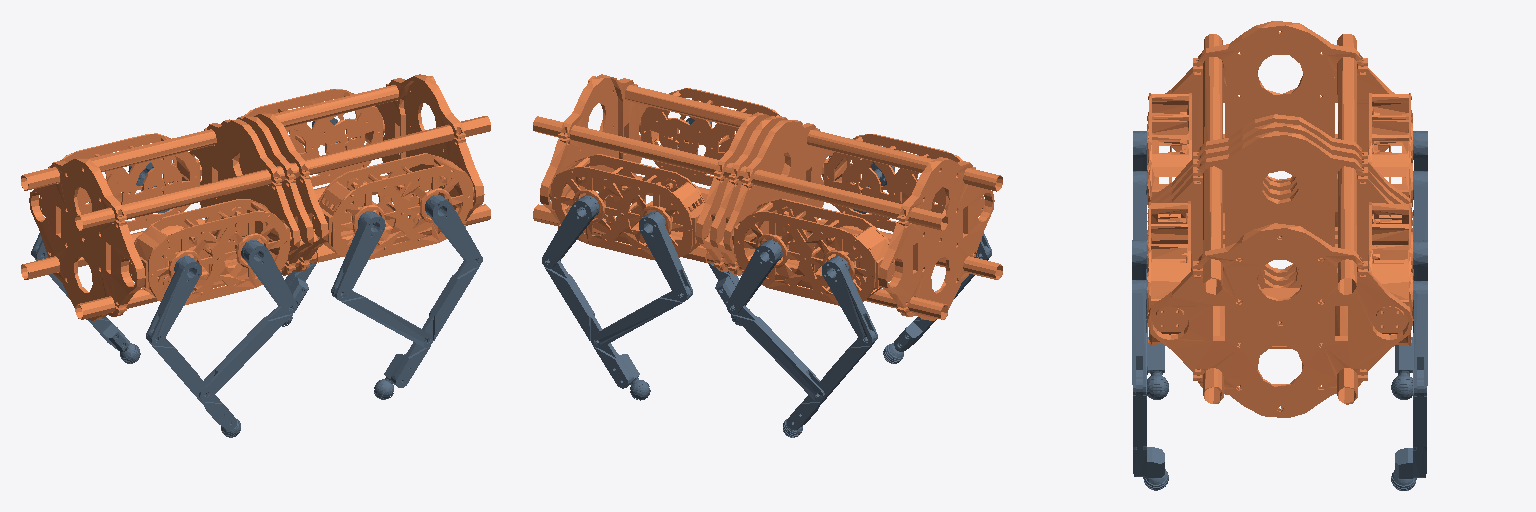
URDF robot description (quadson):
<robot name="quadson" version="1.0">
  <joint name="bl_joint0" type="revolute">
    <limit lower="-3.14000" upper="3.14000" effort="0.00000" velocity="0.00000"/>
    <origin rpy="0.00000 1.57080 0.00000" xyz="-0.20768 0.09541 0.00215"/>
    <parent link="base_link"/>
    <child link="bl_link0"/>
    <axis xyz="0.00000 0.00000 1.00000"/>
  </joint>
  <joint name="bl_joint1" type="revolute">
    <limit lower="-3.14000" upper="3.14000" effort="0.00000" velocity="0.00000"/>
    <origin rpy="-1.57080 -1.57080 0.00000" xyz="0.00040 0.01862 0.05458"/>
    <parent link="bl_link0"/>
    <child link="bl_link1"/>
    <axis xyz="0.00000 0.00000 1.00000"/>
  </joint>
  <joint name="bl_joint2" type="revolute">
    <limit lower="-3.14000" upper="3.14000" effort="0.00000" velocity="0.00000"/>
    <origin rpy="-0.00000 -0.00000 -0.00000" xyz="-0.04179 0.06838 0.00778"/>
    <parent link="bl_link1"/>
    <child link="bl_link2"/>
    <axis xyz="0.00000 0.00000 1.00000"/>
  </joint>
  <joint name="bl_joint3" type="revolute">
    <limit lower="-3.14000" upper="3.14000" effort="0.00000" velocity="0.00000"/>
    <origin rpy="-0.00000 0.00000 -0.00000" xyz="0.05995 0.08004 -0.00055"/>
    <parent link="bl_link2"/>
    <child link="bl_link3"/>
    <axis xyz="0.00000 0.00000 1.00000"/>
  </joint>
  <joint name="bl_joint4" type="revolute">
    <limit lower="-3.14000" upper="3.14000" effort="0.00000" velocity="0.00000"/>
    <origin rpy="-0.00000 0.00000 0.00000" xyz="0.10334 -0.07887 0.00054"/>
    <parent link="bl_link3"/>
    <child link="bl_link4"/>
    <axis xyz="0.00000 0.00000 1.00000"/>
  </joint>
  <joint name="br_joint0" type="revolute">
    <limit lower="-3.14000" upper="3.14000" effort="0.00000" velocity="0.00000"/>
    <origin rpy="0.00000 1.57080 0.00000" xyz="-0.20768 -0.09459 0.00215"/>
    <parent link="base_link"/>
    <child link="br_link0"/>
    <axis xyz="0.00000 0.00000 1.00000"/>
  </joint>
  <joint name="br_joint1" type="revolute">
    <limit lower="-3.14000" upper="3.14000" effort="0.00000" velocity="0.00000"/>
    <origin rpy="1.57080 -1.57080 -0.00000" xyz="0.00040 -0.01862 0.05458"/>
    <parent link="br_link0"/>
    <child link="br_link1"/>
    <axis xyz="0.00000 0.00000 1.00000"/>
  </joint>
  <joint name="br_joint2" type="revolute">
    <limit lower="-3.14000" upper="3.14000" effort="0.00000" velocity="0.00000"/>
    <origin rpy="0.00000 0.00000 -0.00000" xyz="-0.04173 -0.06842 0.00768"/>
    <parent link="br_link1"/>
    <child link="br_link2"/>
    <axis xyz="0.00000 0.00000 1.00000"/>
  </joint>
  <joint name="br_joint3" type="revolute">
    <limit lower="-3.14000" upper="3.14000" effort="0.00000" velocity="0.00000"/>
    <origin rpy="0.00000 0.00000 -0.00000" xyz="0.05988 -0.08000 -0.00045"/>
    <parent link="br_link2"/>
    <child link="br_link3"/>
    <axis xyz="0.00000 0.00000 1.00000"/>
  </joint>
  <joint name="br_joint4" type="revolute">
    <limit lower="-3.14000" upper="3.14000" effort="0.00000" velocity="0.00000"/>
    <origin rpy="0.00000 0.00000 -0.00000" xyz="0.10341 0.07891 0.00044"/>
    <parent link="br_link3"/>
    <child link="br_link4"/>
    <axis xyz="0.00000 0.00000 1.00000"/>
  </joint>
  <joint name="fl_joint0" type="revolute">
    <limit lower="-3.14000" upper="3.14000" effort="0.00000" velocity="0.00000"/>
    <origin rpy="0.00000 -1.57080 0.00000" xyz="0.20740 0.09541 0.00215"/>
    <parent link="base_link"/>
    <child link="fl_link0"/>
    <axis xyz="0.00000 0.00000 1.00000"/>
  </joint>
  <joint name="fl_joint1" type="revolute">
    <limit lower="-3.14000" upper="3.14000" effort="0.00000" velocity="0.00000"/>
    <origin rpy="-1.57080 1.57080 -0.00000" xyz="-0.00040 0.01862 0.05430"/>
    <parent link="fl_link0"/>
    <child link="fl_link1"/>
    <axis xyz="0.00000 0.00000 1.00000"/>
  </joint>
  <joint name="fl_joint2" type="revolute">
    <limit lower="-3.14000" upper="3.14000" effort="0.00000" velocity="0.00000"/>
    <origin rpy="-0.00000 -0.00000 -0.00000" xyz="0.04173 0.06842 0.00768"/>
    <parent link="fl_link1"/>
    <child link="fl_link2"/>
    <axis xyz="0.00000 0.00000 1.00000"/>
  </joint>
  <joint name="fl_joint3" type="revolute">
    <limit lower="-3.14000" upper="3.14000" effort="0.00000" velocity="0.00000"/>
    <origin rpy="-0.00000 0.00000 -0.00000" xyz="-0.05988 0.08000 -0.00045"/>
    <parent link="fl_link2"/>
    <child link="fl_link3"/>
    <axis xyz="0.00000 0.00000 1.00000"/>
  </joint>
  <joint name="fl_joint4" type="revolute">
    <limit lower="-3.14000" upper="3.14000" effort="0.00000" velocity="0.00000"/>
    <origin rpy="-0.00000 -0.00000 0.00000" xyz="-0.10334 -0.07887 0.00054"/>
    <parent link="fl_link3"/>
    <child link="fl_link4"/>
    <axis xyz="0.00000 0.00000 1.00000"/>
  </joint>
  <joint name="fr_joint0" type="revolute">
    <limit lower="-3.14000" upper="3.14000" effort="0.00000" velocity="0.00000"/>
    <origin rpy="0.00000 -1.57080 0.00000" xyz="0.20740 -0.09459 0.00215"/>
    <parent link="base_link"/>
    <child link="fr_link0"/>
    <axis xyz="0.00000 0.00000 1.00000"/>
  </joint>
  <joint name="fr_joint1" type="revolute">
    <limit lower="-3.14000" upper="3.14000" effort="0.00000" velocity="0.00000"/>
    <origin rpy="1.57080 1.57080 0.00000" xyz="0.00039 -0.01915 0.05430"/>
    <parent link="fr_link0"/>
    <child link="fr_link1"/>
    <axis xyz="0.00000 0.00000 1.00000"/>
  </joint>
  <joint name="fr_joint2" type="revolute">
    <limit lower="-3.14000" upper="3.14000" effort="0.00000" velocity="0.00000"/>
    <origin rpy="0.00000 0.00000 0.00000" xyz="0.04179 -0.06838 0.00778"/>
    <parent link="fr_link1"/>
    <child link="fr_link2"/>
    <axis xyz="0.00000 0.00000 1.00000"/>
  </joint>
  <joint name="fr_joint3" type="revolute">
    <limit lower="-3.14000" upper="3.14000" effort="0.00000" velocity="0.00000"/>
    <origin rpy="0.00000 0.00000 -0.00000" xyz="-0.05995 -0.08004 -0.00055"/>
    <parent link="fr_link2"/>
    <child link="fr_link3"/>
    <axis xyz="0.00000 0.00000 1.00000"/>
  </joint>
  <joint name="fr_joint4" type="revolute">
    <limit lower="-3.14000" upper="3.14000" effort="0.00000" velocity="0.00000"/>
    <origin rpy="0.00000 0.00000 -0.00000" xyz="-0.10341 0.07891 0.00044"/>
    <parent link="fr_link3"/>
    <child link="fr_link4"/>
    <axis xyz="0.00000 0.00000 1.00000"/>
  </joint>
  <link name="base_link">
    <inertial>
      <inertia ixx="0.00472" ixy="0.00000" ixz="0.00000" iyy="0.02855" iyz="-0.00000" izz="0.02916"/>
      <origin rpy="0.00000 0.00000 0.00000" xyz="-0.00001 0.00040 -0.00279"/>
      <mass value="1.50000"/>
    </inertial>
    <visual name="base_link.visual">
      <origin rpy="0.00000 0.00000 0.00000" xyz="0.00000 0.00000 0.00000"/>
      <material name="Primary"/>
      <geometry>
        <mesh filename="../meshes/dae/base_link.dae" scale="1.00000 1.00000 1.00000"/>
      </geometry>
    </visual>
  </link>
  <link name="bl_link0">
    <inertial>
      <inertia ixx="0.00020" ixy="-0.00000" ixz="0.00001" iyy="0.00118" iyz="-0.00000" izz="0.00107"/>
      <origin rpy="0.00000 0.00000 0.00000" xyz="-0.00032 -0.00122 0.09509"/>
      <mass value="0.40000"/>
    </inertial>
    <visual name="bl_link0.visual">
      <origin rpy="-0.00000 -1.57080 0.00000" xyz="-0.00000 -0.00000 -0.00000"/>
      <material name="Primary"/>
      <geometry>
        <mesh filename="../meshes/dae/bl_link0.dae" scale="1.00000 1.00000 1.00000"/>
      </geometry>
    </visual>
  </link>
  <link name="bl_link1">
    <inertial>
      <inertia ixx="0.00012" ixy="0.00000" ixz="-0.00007" iyy="0.00016" iyz="0.00001" izz="0.00005"/>
      <origin rpy="0.00000 0.00000 0.00000" xyz="-0.01519 0.02472 0.00644"/>
      <mass value="0.20000"/>
    </inertial>
    <visual name="bl_link1.visual">
      <origin rpy="1.57080 0.00000 -0.00000" xyz="0.00000 0.00000 -0.00000"/>
      <material name="Grey"/>
      <geometry>
        <mesh filename="../meshes/dae/bl_link1.dae" scale="1.00000 1.00000 1.00000"/>
      </geometry>
    </visual>
  </link>
  <link name="bl_link2">
    <inertial>
      <inertia ixx="0.00062" ixy="0.00006" ixz="0.00045" iyy="0.00095" iyz="-0.00008" izz="0.00036"/>
      <origin rpy="0.00000 0.00000 0.00000" xyz="0.05980 0.08004 -0.00440"/>
      <mass value="0.20000"/>
    </inertial>
    <visual name="bl_link2.visual">
      <origin rpy="1.57080 0.00000 0.00000" xyz="-0.00000 0.00000 0.00000"/>
      <material name="Grey"/>
      <geometry>
        <mesh filename="../meshes/dae/bl_link2.dae" scale="1.00000 1.00000 1.00000"/>
      </geometry>
    </visual>
  </link>
  <link name="bl_link3">
    <inertial>
      <inertia ixx="0.00012" ixy="-0.00000" ixz="-0.00015" iyy="0.00031" iyz="-0.00000" izz="0.00020"/>
      <origin rpy="0.00000 0.00000 0.00000" xyz="0.05213 -0.03967 0.00027"/>
      <mass value="0.20000"/>
    </inertial>
    <visual name="bl_link3.visual">
      <origin rpy="1.57080 -0.00000 0.00000" xyz="0.00000 -0.00000 -0.00000"/>
      <material name="Grey"/>
      <geometry>
        <mesh filename="../meshes/dae/bl_link3.dae" scale="1.00000 1.00000 1.00000"/>
      </geometry>
    </visual>
  </link>
  <link name="bl_link4">
    <inertial>
      <inertia ixx="0.00012" ixy="-0.00000" ixz="0.00006" iyy="0.00016" iyz="0.00001" izz="0.00005"/>
      <origin rpy="0.00000 0.00000 0.00000" xyz="-0.02534 -0.04440 -0.00134"/>
      <mass value="0.20000"/>
    </inertial>
    <visual name="bl_link4.visual">
      <origin rpy="1.57080 -0.00000 0.00000" xyz="-0.03950 -0.06955 -0.00778"/>
      <material name="Grey"/>
      <geometry>
        <mesh filename="../meshes/dae/bl_link4.dae" scale="1.00000 1.00000 1.00000"/>
      </geometry>
    </visual>
  </link>
  <link name="br_link0">
    <inertial>
      <inertia ixx="0.00020" ixy="0.00000" ixz="0.00001" iyy="0.00118" iyz="0.00000" izz="0.00107"/>
      <origin rpy="0.00000 0.00000 0.00000" xyz="-0.00032 0.00122 0.09509"/>
      <mass value="0.40000"/>
    </inertial>
    <visual name="br_link0.visual">
      <origin rpy="-0.00000 -1.57080 0.00000" xyz="-0.00000 0.00000 -0.00000"/>
      <material name="Primary"/>
      <geometry>
        <mesh filename="../meshes/dae/br_link0.dae" scale="1.00000 1.00000 1.00000"/>
      </geometry>
    </visual>
  </link>
  <link name="br_link1">
    <inertial>
      <inertia ixx="0.00012" ixy="-0.00000" ixz="-0.00007" iyy="0.00016" iyz="-0.00001" izz="0.00005"/>
      <origin rpy="0.00000 0.00000 0.00000" xyz="-0.01519 -0.02472 0.00644"/>
      <mass value="0.20000"/>
    </inertial>
    <visual name="br_link1.visual">
      <origin rpy="-1.57080 0.00000 0.00000" xyz="0.00000 -0.00000 -0.00000"/>
      <material name="Grey"/>
      <geometry>
        <mesh filename="../meshes/dae/br_link1.dae" scale="1.00000 1.00000 1.00000"/>
      </geometry>
    </visual>
  </link>
  <link name="br_link2">
    <inertial>
      <inertia ixx="0.00062" ixy="-0.00006" ixz="0.00045" iyy="0.00095" iyz="0.00008" izz="0.00036"/>
      <origin rpy="0.00000 0.00000 0.00000" xyz="0.05973 -0.08000 -0.00430"/>
      <mass value="0.20000"/>
    </inertial>
    <visual name="br_link2.visual">
      <origin rpy="-1.57080 -0.00000 0.00000" xyz="0.00000 0.00000 -0.00000"/>
      <material name="Grey"/>
      <geometry>
        <mesh filename="../meshes/dae/br_link2.dae" scale="1.00000 1.00000 1.00000"/>
      </geometry>
    </visual>
  </link>
  <link name="br_link3">
    <inertial>
      <inertia ixx="0.00012" ixy="0.00000" ixz="-0.00015" iyy="0.00031" iyz="0.00000" izz="0.00020"/>
      <origin rpy="0.00000 0.00000 0.00000" xyz="0.05213 0.03967 0.00027"/>
      <mass value="0.20000"/>
    </inertial>
    <visual name="br_link3.visual">
      <origin rpy="-1.57080 -0.00000 0.00000" xyz="0.00000 0.00000 -0.00000"/>
      <material name="Grey"/>
      <geometry>
        <mesh filename="../meshes/dae/br_link3.dae" scale="1.00000 1.00000 1.00000"/>
      </geometry>
    </visual>
  </link>
  <link name="br_link4">
    <inertial>
      <inertia ixx="0.00012" ixy="0.00000" ixz="0.00006" iyy="0.00016" iyz="-0.00001" izz="0.00005"/>
      <origin rpy="0.00000 0.00000 0.00000" xyz="-0.02541 0.04436 -0.00125"/>
      <mass value="0.20000"/>
    </inertial>
    <visual name="br_link4.visual">
      <origin rpy="-1.57080 -0.00000 0.00000" xyz="-0.03957 0.06951 -0.00768"/>
      <material name="Grey"/>
      <geometry>
        <mesh filename="../meshes/dae/br_link4.dae" scale="1.00000 1.00000 1.00000"/>
      </geometry>
    </visual>
  </link>
  <link name="fl_link0">
    <inertial>
      <inertia ixx="0.00020" ixy="0.00000" ixz="-0.00001" iyy="0.00118" iyz="-0.00000" izz="0.00107"/>
      <origin rpy="0.00000 0.00000 0.00000" xyz="0.00032 -0.00122 0.09481"/>
      <mass value="0.40000"/>
    </inertial>
    <visual name="fl_link0.visual">
      <origin rpy="0.00000 1.57080 0.00000" xyz="-0.00000 -0.00000 0.00000"/>
      <material name="Primary"/>
      <geometry>
        <mesh filename="../meshes/dae/fl_link0.dae" scale="1.00000 1.00000 1.00000"/>
      </geometry>
    </visual>
  </link>
  <link name="fl_link1">
    <inertial>
      <inertia ixx="0.00012" ixy="-0.00000" ixz="0.00007" iyy="0.00016" iyz="0.00001" izz="0.00005"/>
      <origin rpy="0.00000 0.00000 0.00000" xyz="0.01519 0.02472 0.00644"/>
      <mass value="0.20000"/>
    </inertial>
    <visual name="fl_link1.visual">
      <origin rpy="1.57080 -0.00000 0.00000" xyz="0.00000 0.00000 -0.00000"/>
      <material name="Grey"/>
      <geometry>
        <mesh filename="../meshes/dae/fl_link1.dae" scale="1.00000 1.00000 1.00000"/>
      </geometry>
    </visual>
  </link>
  <link name="fl_link2">
    <inertial>
      <inertia ixx="0.00062" ixy="-0.00006" ixz="-0.00045" iyy="0.00095" iyz="-0.00008" izz="0.00036"/>
      <origin rpy="0.00000 0.00000 0.00000" xyz="-0.05973 0.08000 -0.00430"/>
      <mass value="0.20000"/>
    </inertial>
    <visual name="fl_link2.visual">
      <origin rpy="1.57080 0.00000 0.00000" xyz="-0.00000 0.00000 0.00000"/>
      <material name="Grey"/>
      <geometry>
        <mesh filename="../meshes/dae/fl_link2.dae" scale="1.00000 1.00000 1.00000"/>
      </geometry>
    </visual>
  </link>
  <link name="fl_link3">
    <inertial>
      <inertia ixx="0.00012" ixy="0.00000" ixz="0.00015" iyy="0.00031" iyz="-0.00000" izz="0.00020"/>
      <origin rpy="0.00000 0.00000 0.00000" xyz="-0.05213 -0.03967 0.00027"/>
      <mass value="0.20000"/>
    </inertial>
    <visual name="fl_link3.visual">
      <origin rpy="1.57080 -0.00000 -0.00000" xyz="-0.00000 -0.00000 -0.00000"/>
      <material name="Grey"/>
      <geometry>
        <mesh filename="../meshes/dae/fl_link3.dae" scale="1.00000 1.00000 1.00000"/>
      </geometry>
    </visual>
  </link>
  <link name="fl_link4">
    <inertial>
      <inertia ixx="0.00012" ixy="0.00000" ixz="-0.00006" iyy="0.00016" iyz="0.00001" izz="0.00005"/>
      <origin rpy="0.00000 0.00000 0.00000" xyz="0.02534 -0.04440 -0.00134"/>
      <mass value="0.20000"/>
    </inertial>
    <visual name="fl_link4.visual">
      <origin rpy="1.57080 -0.00000 -0.00000" xyz="0.03950 -0.06955 -0.00778"/>
      <material name="Grey"/>
      <geometry>
        <mesh filename="../meshes/dae/fl_link4.dae" scale="1.00000 1.00000 1.00000"/>
      </geometry>
    </visual>
  </link>
  <link name="fr_link0">
    <inertial>
      <inertia ixx="0.00020" ixy="-0.00000" ixz="-0.00001" iyy="0.00118" iyz="0.00000" izz="0.00107"/>
      <origin rpy="0.00000 0.00000 0.00000" xyz="0.00111 0.00069 0.09481"/>
      <mass value="0.40000"/>
    </inertial>
    <visual name="fr_link0.visual">
      <origin rpy="-0.00000 1.57080 -0.00000" xyz="0.00000 0.00000 -0.00000"/>
      <material name="Primary"/>
      <geometry>
        <mesh filename="../meshes/dae/fr_link0.dae" scale="1.00000 1.00000 1.00000"/>
      </geometry>
    </visual>
  </link>
  <link name="fr_link1">
    <inertial>
      <inertia ixx="0.00012" ixy="0.00000" ixz="0.00007" iyy="0.00016" iyz="-0.00001" izz="0.00005"/>
      <origin rpy="0.00000 0.00000 0.00000" xyz="0.01519 -0.02472 0.00644"/>
      <mass value="0.20000"/>
    </inertial>
    <visual name="fr_link1.visual">
      <origin rpy="-1.57080 -0.00000 -0.00000" xyz="0.00000 0.00000 -0.00000"/>
      <material name="Grey"/>
      <geometry>
        <mesh filename="../meshes/dae/fr_link1.dae" scale="1.00000 1.00000 1.00000"/>
      </geometry>
    </visual>
  </link>
  <link name="fr_link2">
    <inertial>
      <inertia ixx="0.00062" ixy="0.00006" ixz="-0.00045" iyy="0.00095" iyz="0.00008" izz="0.00036"/>
      <origin rpy="0.00000 0.00000 0.00000" xyz="-0.05980 -0.08004 -0.00440"/>
      <mass value="0.20000"/>
    </inertial>
    <visual name="fr_link2.visual">
      <origin rpy="-1.57080 -0.00000 -0.00000" xyz="-0.00000 -0.00000 -0.00000"/>
      <material name="Grey"/>
      <geometry>
        <mesh filename="../meshes/dae/fr_link2.dae" scale="1.00000 1.00000 1.00000"/>
      </geometry>
    </visual>
  </link>
  <link name="fr_link3">
    <inertial>
      <inertia ixx="0.00012" ixy="-0.00000" ixz="0.00015" iyy="0.00031" iyz="0.00000" izz="0.00020"/>
      <origin rpy="0.00000 0.00000 0.00000" xyz="-0.05213 0.03967 0.00027"/>
      <mass value="0.20000"/>
    </inertial>
    <visual name="fr_link3.visual">
      <origin rpy="-1.57080 -0.00000 -0.00000" xyz="0.00000 -0.00000 0.00000"/>
      <material name="Grey"/>
      <geometry>
        <mesh filename="../meshes/dae/fr_link3.dae" scale="1.00000 1.00000 1.00000"/>
      </geometry>
    </visual>
  </link>
  <link name="fr_link4">
    <inertial>
      <inertia ixx="0.00012" ixy="-0.00000" ixz="-0.00006" iyy="0.00016" iyz="-0.00001" izz="0.00005"/>
      <origin rpy="0.00000 0.00000 0.00000" xyz="0.02541 0.04436 -0.00125"/>
      <mass value="0.20000"/>
    </inertial>
    <visual name="fr_link4.000">
      <origin rpy="-1.57080 -0.00000 -0.00000" xyz="0.03966 0.06964 -0.00768"/>
      <material name="Grey"/>
      <geometry>
        <mesh filename="../meshes/dae/fr_link4.dae" scale="1.00000 1.00000 1.00000"/>
      </geometry>
    </visual>
  </link>
  <material name="Grey">
    <color rgba="0.39608 0.47059 0.54510 1.00000"/>
  </material>
  <material name="Primary">
    <color rgba="0.92941 0.56471 0.36471 1.00000"/>
  </material>
</robot>

--- Facts derived from the render (not from the file) ---
The picture shows the robot from 3 angles, left to right: view 1: azimuth 30°, elevation 25°; view 2: azimuth 150°, elevation 25°; view 3: azimuth 270°, elevation 25°; orthographic projection.
Robot: quadson — 21 links, 20 joints (20 revolute); root link base_link; default pose: all joints at 0.
Links seen in each view (by area): view 1: base_link, fr_link0, br_link0, bl_link0, fl_link0, fr_link2, br_link3, fr_link4, br_link1, br_link2, br_link4, fr_link1 (+3 smaller); view 2: base_link, fl_link0, bl_link0, br_link0, fr_link0, fl_link2, bl_link3, fl_link4, bl_link1, bl_link2, fl_link1, bl_link4 (+3 smaller); view 3: base_link, fr_link0, fl_link0, br_link0, bl_link0, fr_link2, fl_link2, fr_link1, fl_link1, bl_link2, br_link2, bl_link4 (+5 smaller).
Link boxes in pixels (box(x1,y1,x2,y2)): base_link: box(21, 74, 490, 320); fr_link0: box(312, 153, 474, 259); br_link0: box(129, 199, 291, 305); bl_link0: box(39, 133, 201, 231); fl_link0: box(244, 89, 384, 186); fr_link2: box(374, 259, 479, 399); br_link3: box(199, 305, 291, 401); fr_link4: box(331, 211, 385, 300); br_link1: box(146, 256, 201, 345); br_link2: box(147, 329, 240, 437); br_link4: box(241, 240, 297, 314); fr_link1: box(425, 195, 482, 267); base_link: box(533, 74, 1002, 320); fl_link0: box(549, 154, 711, 260); bl_link0: box(732, 199, 894, 305); br_link0: box(822, 134, 984, 231); fr_link0: box(639, 88, 779, 185); fl_link2: box(545, 259, 650, 400); bl_link3: box(732, 305, 824, 401); fl_link4: box(639, 212, 692, 301); bl_link1: box(822, 256, 877, 345); bl_link2: box(783, 330, 876, 437); fl_link1: box(542, 195, 599, 268); bl_link4: box(726, 240, 782, 314); base_link: box(1147, 21, 1412, 417); fr_link0: box(1147, 201, 1191, 345); fl_link0: box(1368, 202, 1412, 345); br_link0: box(1147, 93, 1191, 204); bl_link0: box(1368, 93, 1412, 206); fr_link2: box(1133, 377, 1168, 490); fl_link2: box(1391, 378, 1426, 490); fr_link1: box(1132, 280, 1146, 394); fl_link1: box(1413, 280, 1427, 395); bl_link2: box(1391, 210, 1413, 399); br_link2: box(1146, 319, 1168, 399); bl_link4: box(1413, 171, 1427, 240).
Size in the robot's own frame: 0.5 by 0.2564 by 0.306 metres.
Meshes: 21 distinct files referenced, 21 mesh visuals loaded (21 Collada DAE).